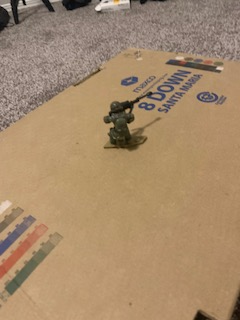soldier: (102, 88, 155, 152)
